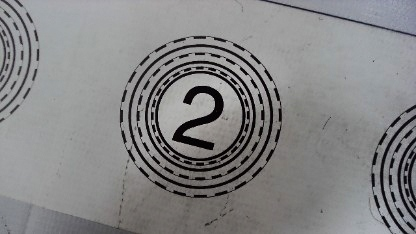2r: (113, 36, 283, 199)
